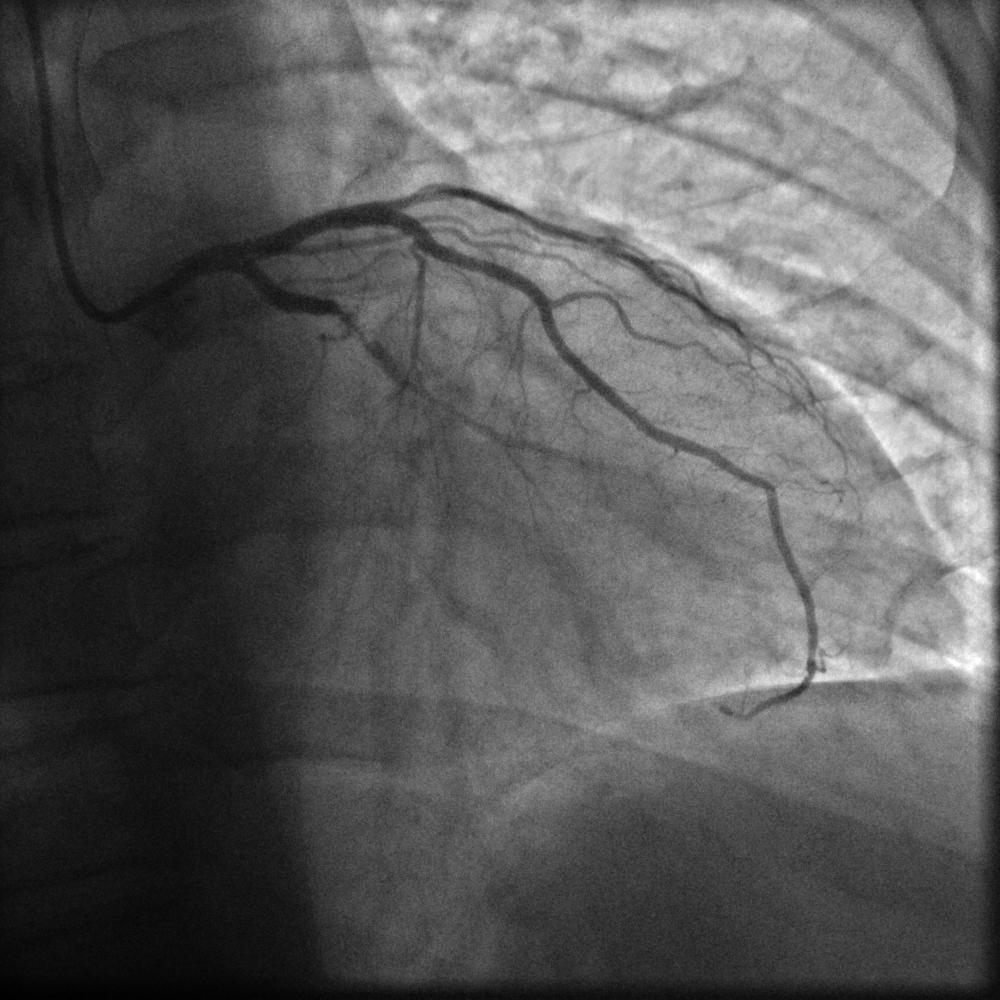Stenosis: (324, 297, 382, 355)
